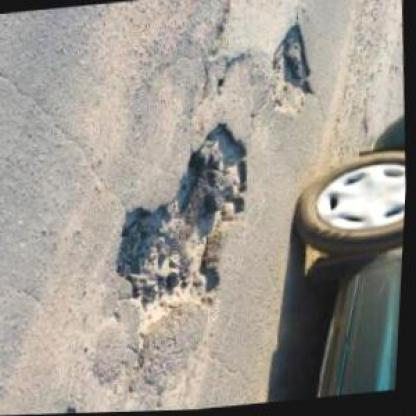pothole: (106, 118, 268, 337), (266, 22, 322, 119)
